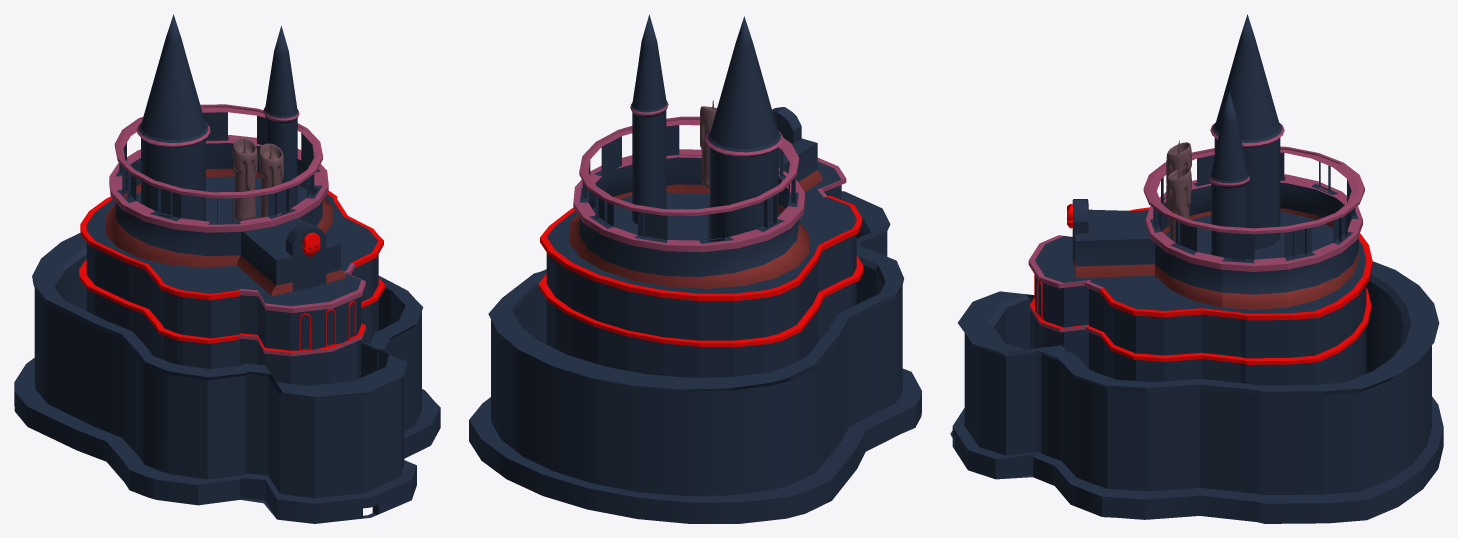
File: Miss Castle.fbx
3 renders of one model, left to right at view 1: azimuth 30°, elevation 25°; view 2: azimuth 150°, elevation 25°; view 3: azimuth 270°, elevation 25°, orthographic. The views are drawn at different scales.
Parts seen in each view (by area): view 1: pDisc1, pCylinder1, pCylinder3, pCylinder2, Cylinder.003, Cylinder.004; view 2: pDisc1, pCylinder1, pCylinder3, pCylinder2, Cylinder.004; view 3: pDisc1, pCylinder1, pCylinder3, pCylinder2, Cylinder.004, Cylinder.003.
Part boxes in pixels (x1,y1,x2,y2): pDisc1: (14, 176, 440, 523); pCylinder1: (105, 104, 345, 295); pCylinder3: (136, 14, 210, 221); pCylinder2: (263, 26, 299, 214); Cylinder.003: (232, 138, 257, 220); Cylinder.004: (258, 143, 283, 217); pDisc1: (469, 158, 921, 523); pCylinder1: (569, 107, 822, 288); pCylinder3: (705, 16, 783, 241); pCylinder2: (630, 14, 668, 224); Cylinder.004: (700, 100, 716, 188); pDisc1: (950, 207, 1443, 523); pCylinder1: (1072, 146, 1364, 309); pCylinder3: (1210, 14, 1284, 249); pCylinder2: (1209, 91, 1249, 261); Cylinder.004: (1166, 165, 1191, 248); Cylinder.003: (1166, 140, 1191, 217).
Size of the model in its own units: 498 by 601 by 658.
